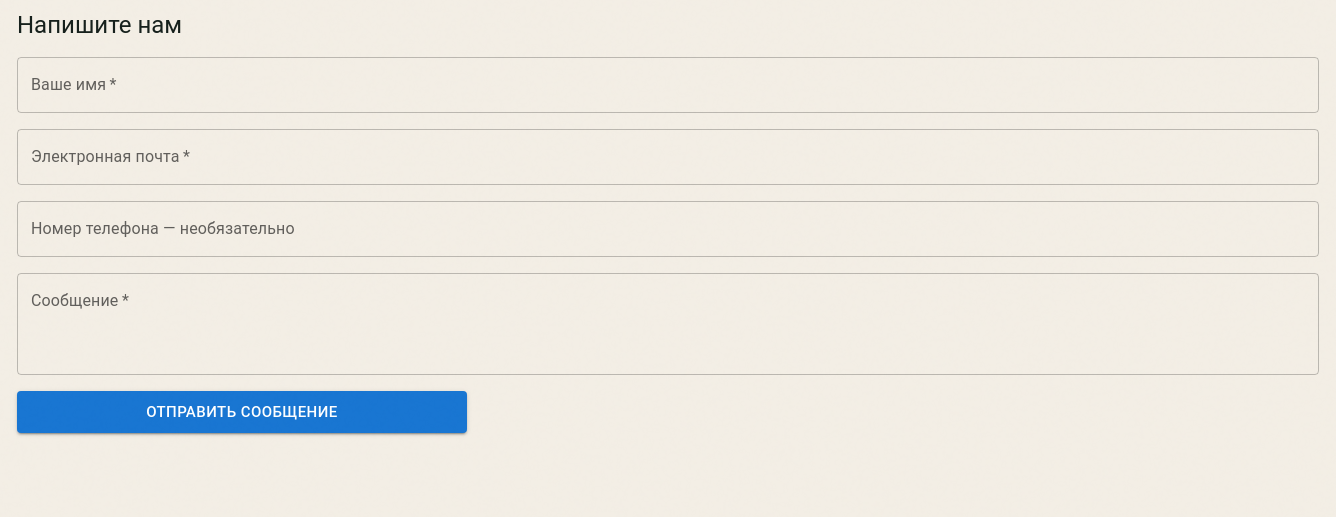
it: lead forms › offers email contact after feedback failure without losing the message
In the field labelled "Ваше имя": (668, 85) [17,57,1319,113], type "Анна"
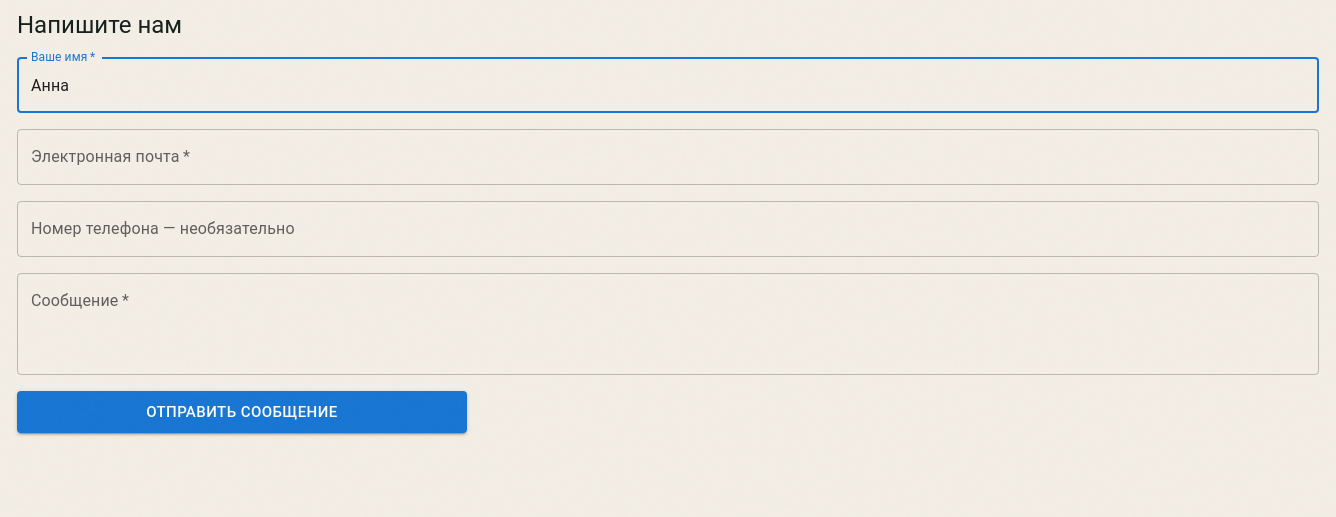
In the field labelled "Электронная почта": (668, 157) [17,129,1319,185], type "anna@example.com"
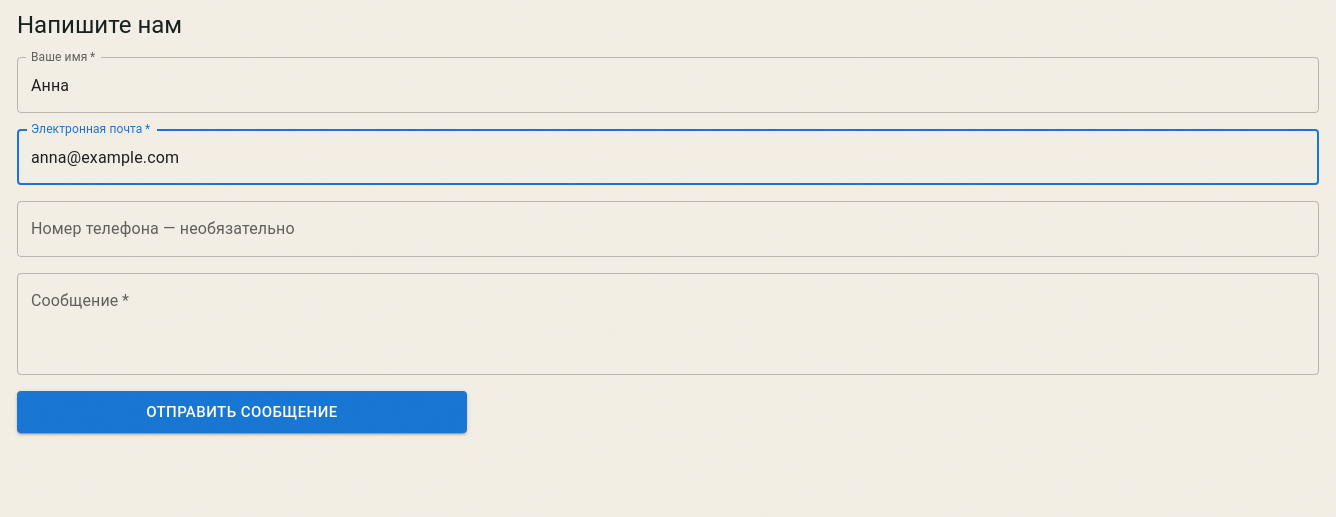
In the text box labelled "Сообщение": (668, 324) [31,290,1305,358], type "Хочу уточнить состав средства"
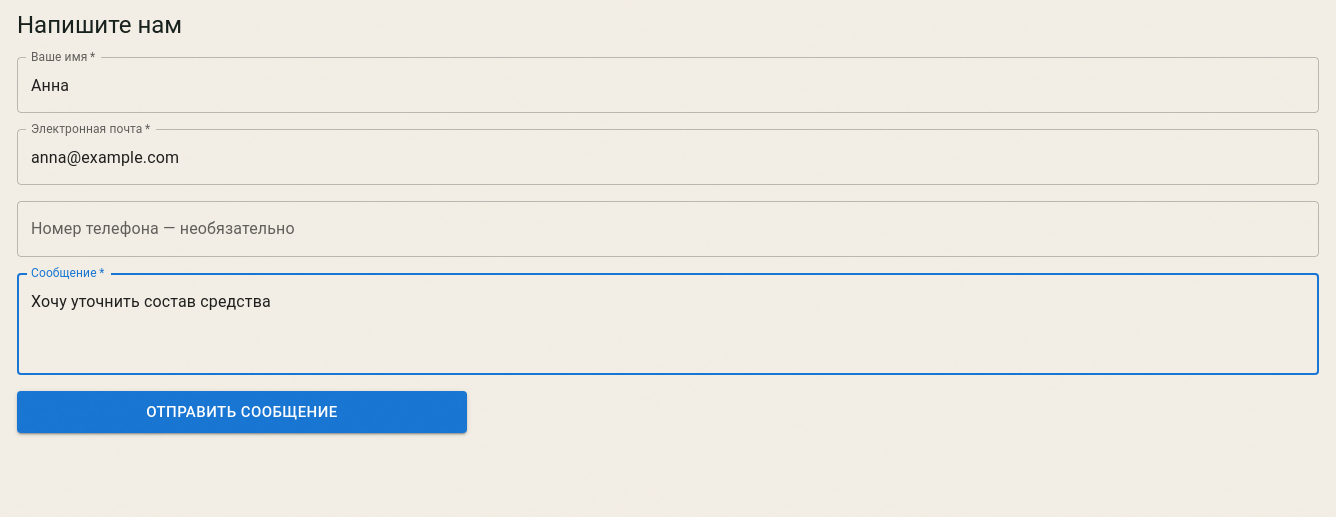
Click the button "Отправить сообщение": (242, 412) [17,391,467,433]
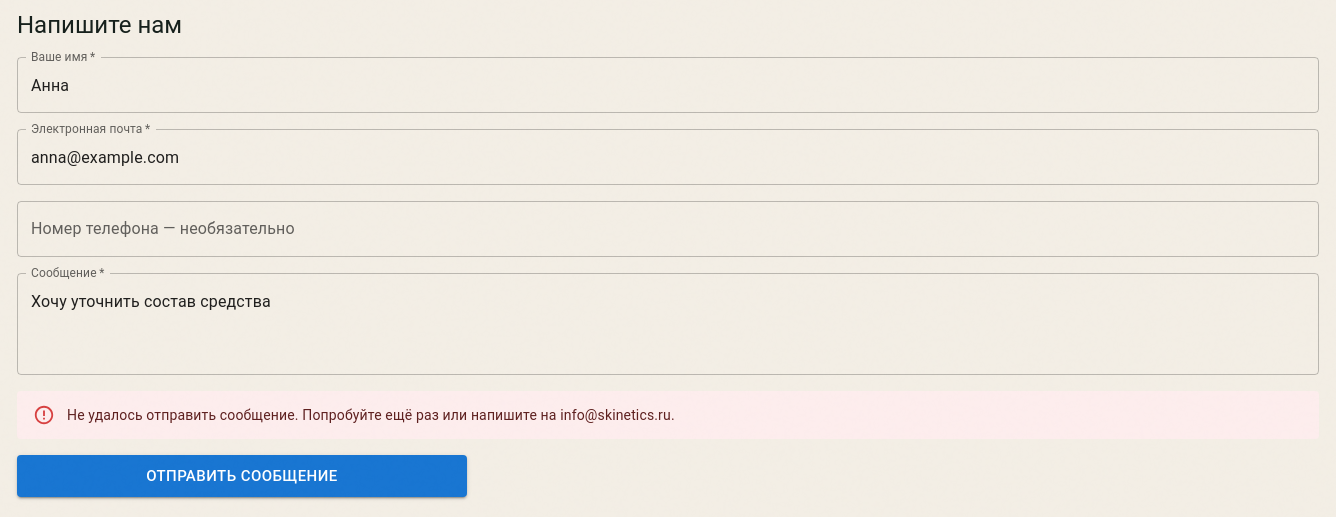
Check: the message shows "Не удалось отправить сообщение. Попробуйте ещё раз или напишите на info@skinetics.ru.", box [67,407,675,423]
